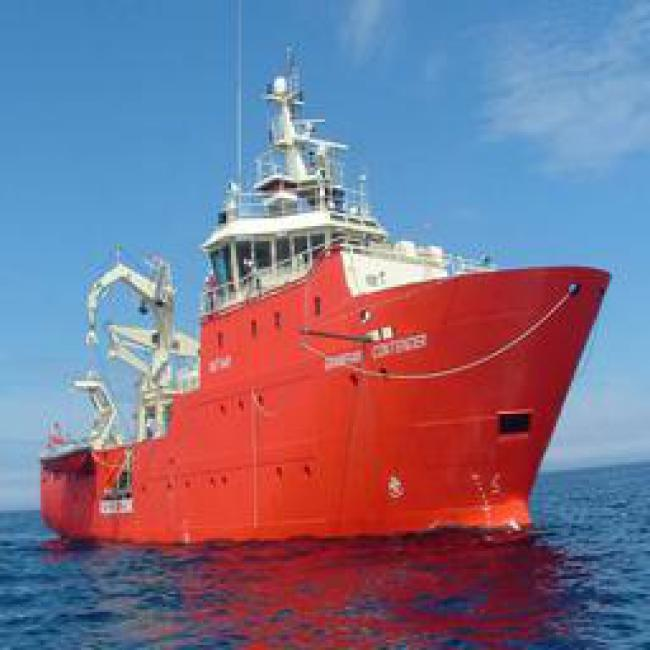Ship: (39, 234, 605, 548)
